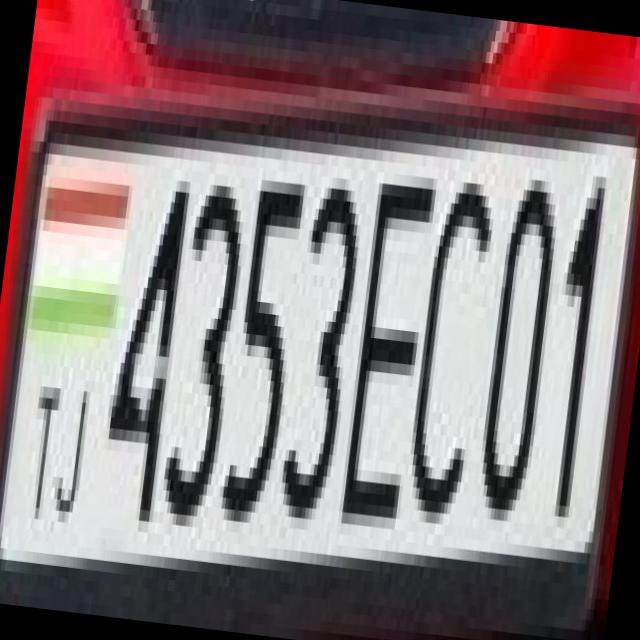0: (466, 154, 560, 500)
1: (526, 150, 616, 507)
3: (272, 163, 366, 510), (158, 160, 249, 507)
4: (89, 142, 198, 522)
5: (207, 156, 317, 514)
C: (388, 145, 501, 526)
E: (324, 137, 438, 528)
